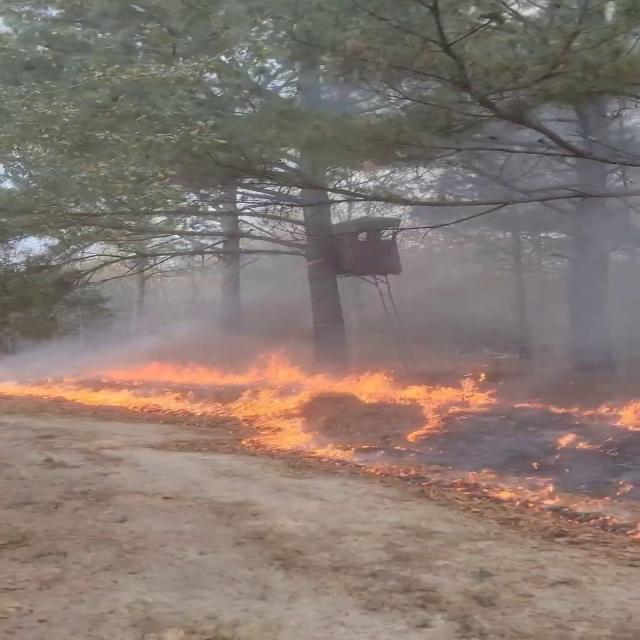Fire: (2, 344, 504, 454), (538, 389, 640, 448)
Smoke: (14, 164, 640, 370)
